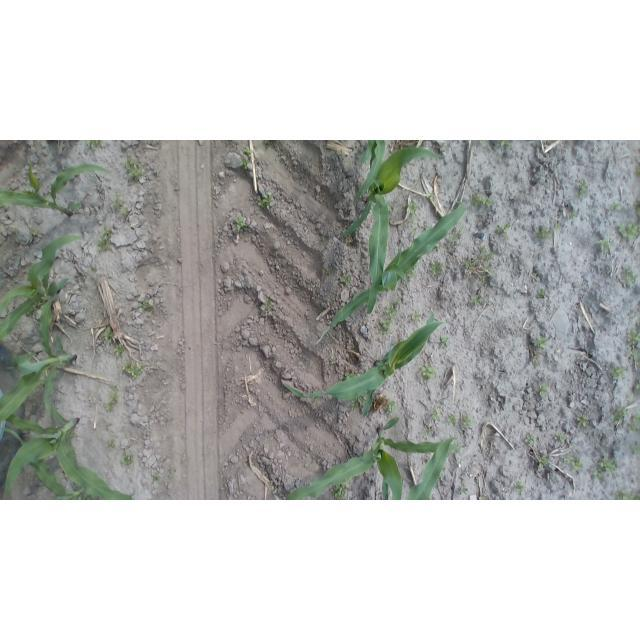Maize: (312, 192, 465, 348), (342, 142, 449, 315), (281, 313, 446, 410), (287, 415, 457, 500), (0, 407, 132, 496), (2, 293, 75, 436), (1, 237, 88, 352), (0, 157, 110, 217), (403, 440, 459, 498), (357, 141, 383, 176)
Weeds: (124, 156, 146, 183), (594, 456, 618, 480), (121, 360, 144, 378), (105, 386, 120, 413), (619, 221, 638, 241), (112, 195, 129, 215), (471, 193, 493, 208), (622, 266, 637, 287), (254, 192, 273, 208), (565, 455, 584, 471), (239, 148, 253, 169), (408, 201, 421, 223), (331, 482, 348, 498), (99, 229, 111, 251), (577, 179, 590, 199), (611, 365, 628, 380), (613, 408, 628, 425), (421, 365, 438, 380), (138, 299, 156, 313), (598, 237, 613, 253), (614, 489, 638, 499), (539, 226, 554, 241), (626, 329, 638, 347), (384, 303, 398, 318), (234, 215, 248, 230), (478, 245, 493, 259), (429, 262, 443, 277), (120, 453, 134, 468), (496, 221, 511, 235), (462, 413, 475, 429), (379, 319, 393, 333), (533, 336, 548, 349), (577, 413, 590, 427), (630, 346, 639, 366), (263, 294, 273, 312), (102, 327, 114, 341), (538, 455, 550, 469), (85, 141, 103, 150), (350, 398, 362, 411), (439, 336, 452, 348), (114, 344, 126, 357), (479, 270, 491, 283), (525, 432, 536, 446), (408, 220, 419, 234), (630, 413, 638, 432), (386, 400, 397, 413), (538, 382, 548, 396), (448, 231, 460, 242), (432, 408, 443, 420), (341, 272, 352, 284), (471, 295, 484, 305), (447, 413, 457, 426), (515, 482, 525, 493), (413, 312, 424, 322), (555, 431, 566, 441), (465, 259, 475, 269), (422, 427, 432, 437), (629, 310, 639, 320), (106, 439, 117, 448), (611, 202, 620, 213), (630, 443, 638, 455), (498, 140, 510, 148), (343, 372, 353, 381), (458, 227, 467, 237), (151, 472, 160, 482), (569, 210, 577, 221), (537, 289, 545, 299), (30, 229, 40, 237), (347, 237, 355, 247), (633, 201, 638, 216), (461, 486, 470, 494), (264, 140, 273, 148), (325, 268, 333, 277), (477, 141, 487, 148), (632, 383, 638, 394), (478, 493, 488, 499), (387, 201, 393, 211), (554, 223, 561, 231), (91, 265, 98, 272)
